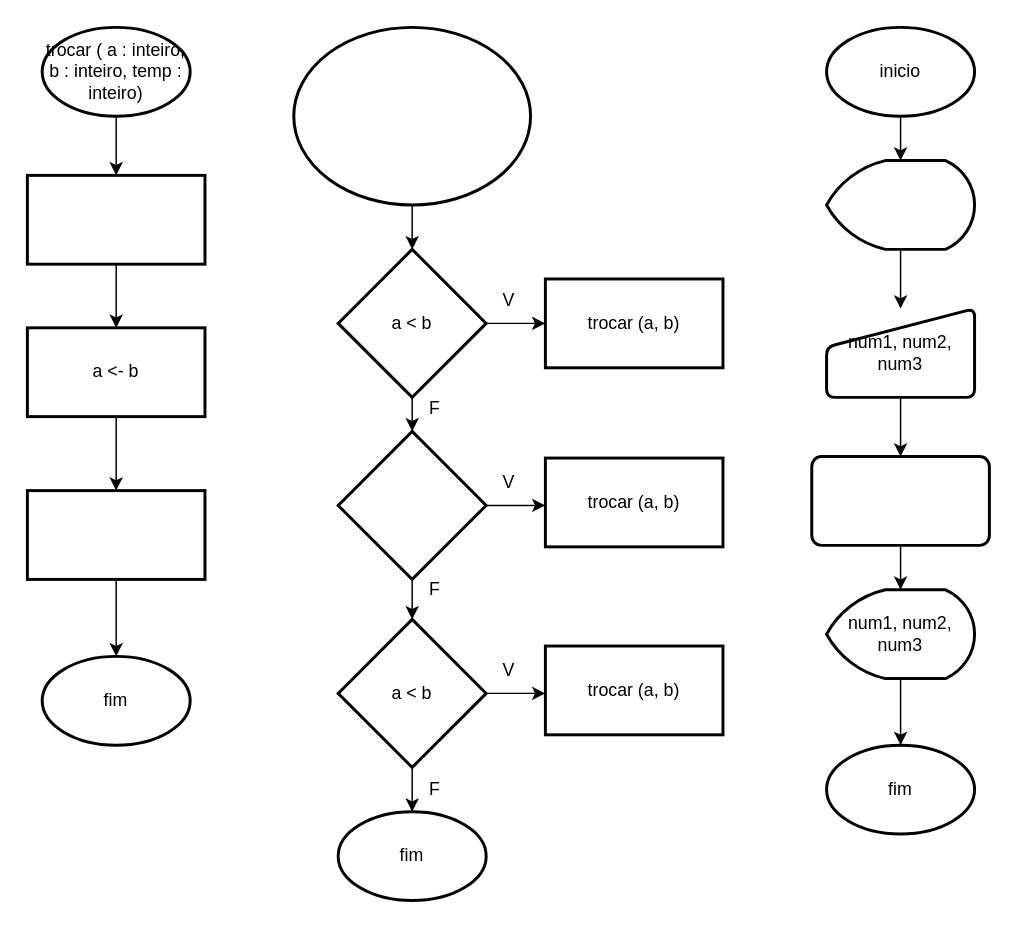
Image size: 1015x926. Some labels were removed from this diagram. Each missing label, with the centre of its shape:
b < c: (411,504)
b <- temp: (115,534)
Digite três números:: (899,204)
ordenarDecrescente (a : inteiro, b : inteiro, c : inteiro): (411,115)
ordenarDecrescente (num1, num2, num3): (900,500)
temp <- a: (115,219)
